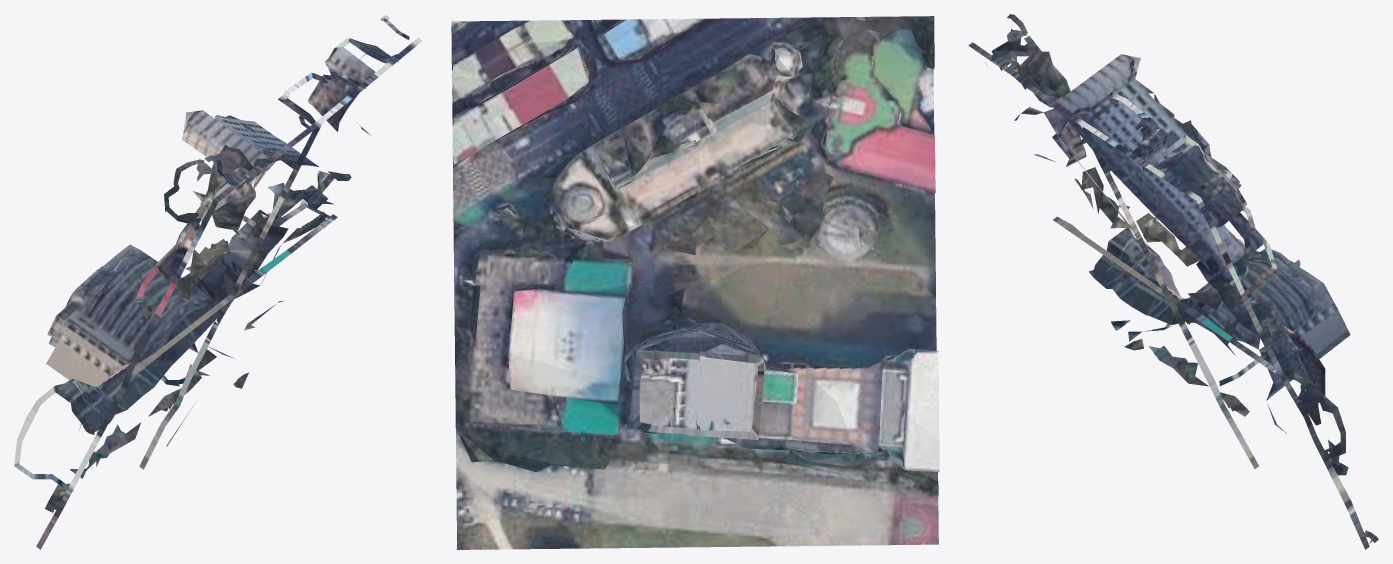
The picture shows the model from 3 angles, left to right: view 1: azimuth 30°, elevation 25°; view 2: azimuth 150°, elevation 25°; view 3: azimuth 270°, elevation 25°; orthographic projection. The views are drawn at different scales.
Bounding box in the file's own units: 157 × 146 × 131.
Materials: 1 (1 with a texture image).
